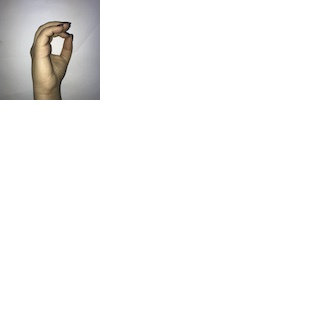rock: (27, 19, 74, 92)
